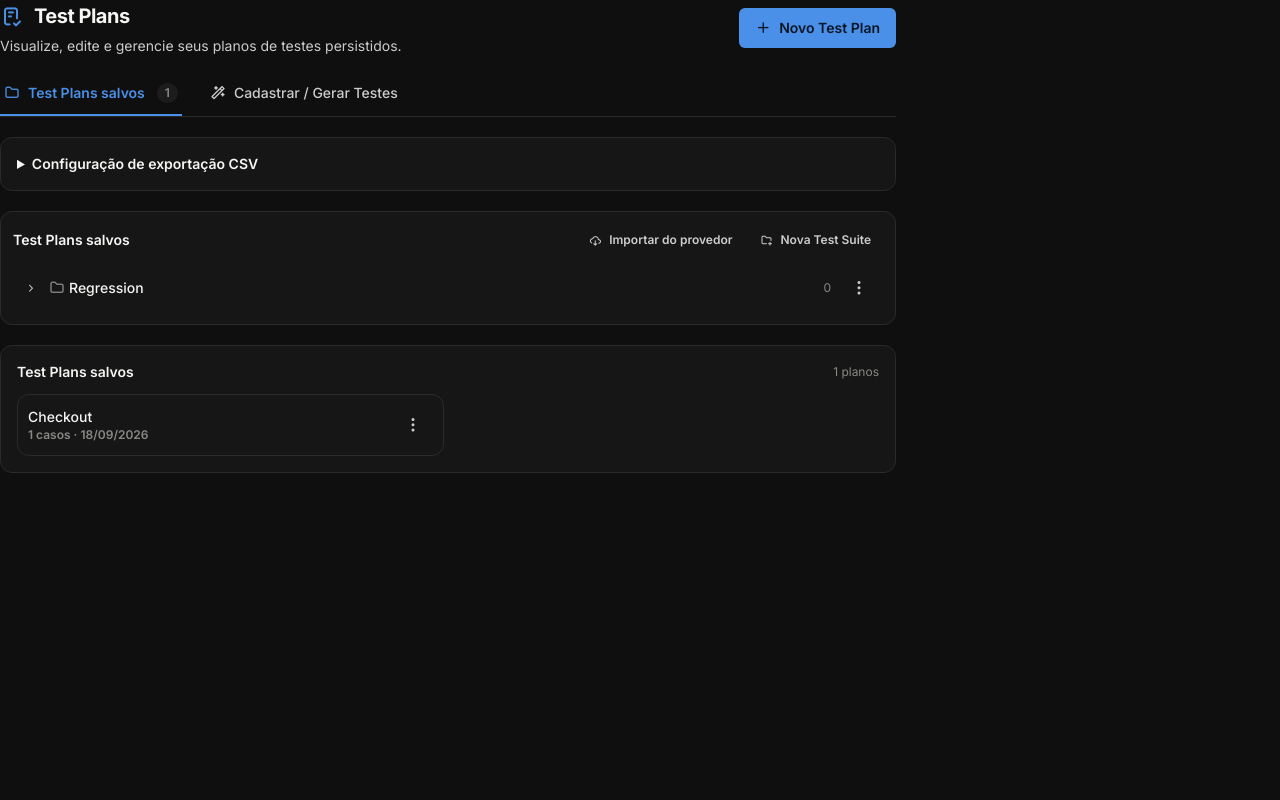
Test: TestPlansView saved plan editing › cancels the plan deletion dialog
What coordinates should you click on to do the following:
click the button named "Ações: Checkout"
I would click on:
 (413, 425)
Its box is [393, 405, 433, 445].
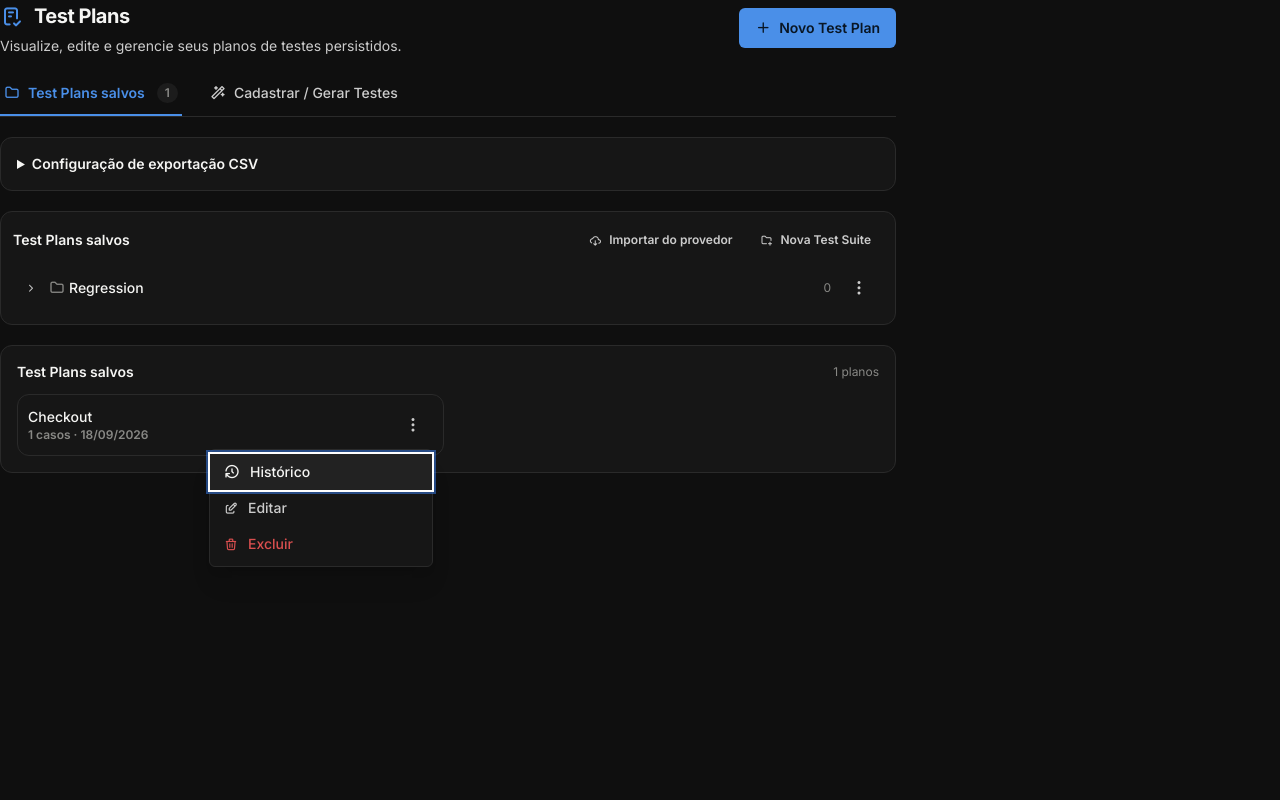
What coordinates should you click on to do the following:
click the button with aria-label "Excluir Test Plan Checkout"
I would click on:
 (321, 544)
Its box is [210, 526, 432, 562].
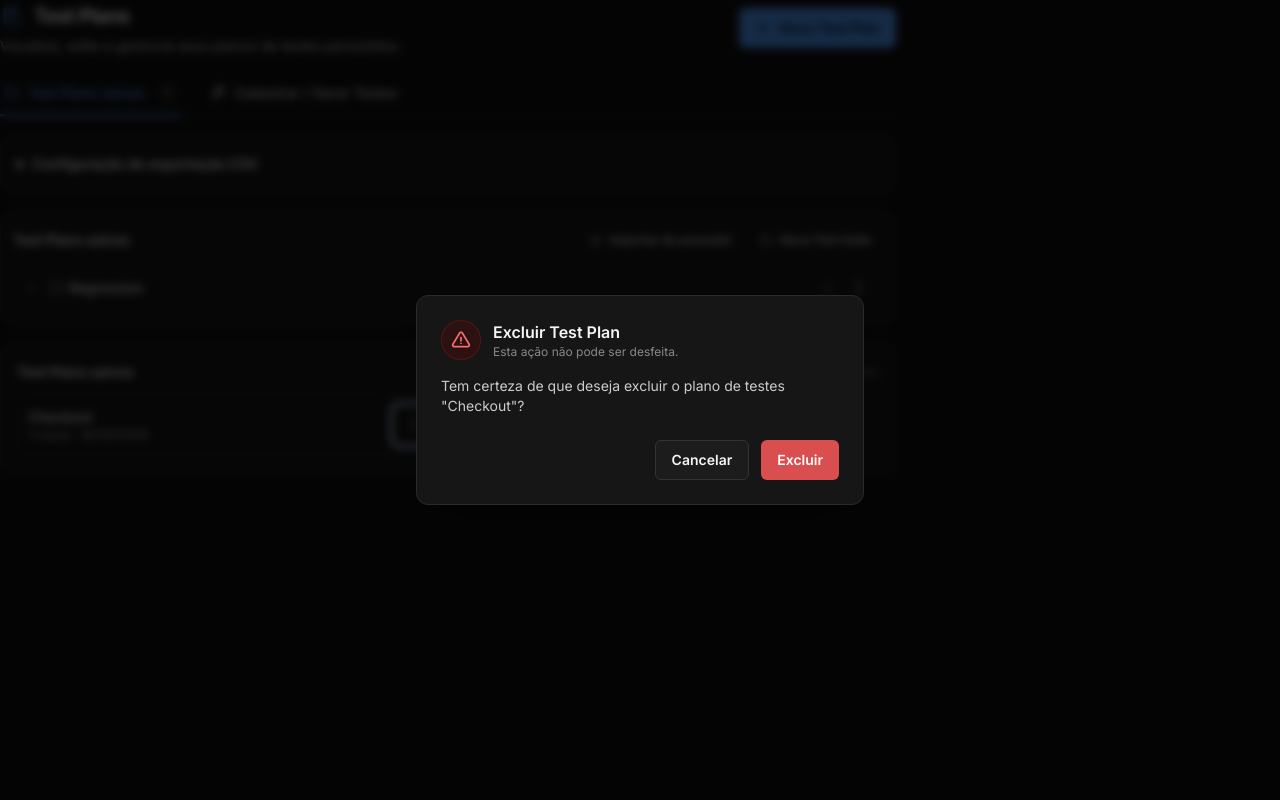
What coordinates should you click on to do the following:
click the button "Cancelar"
I would click on:
 (702, 460)
Its box is [655, 440, 749, 480].
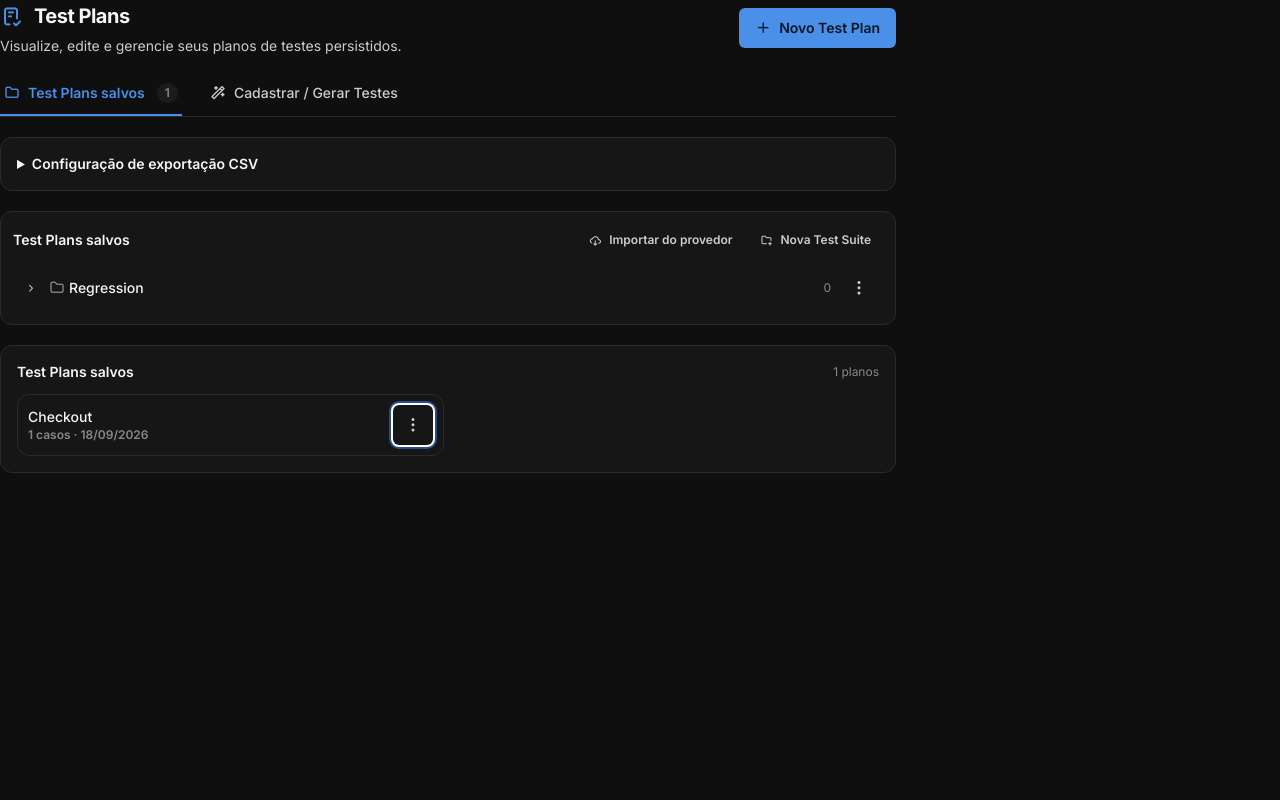
Check: the button with test id "confirm-delete-plan-btn" is gone
